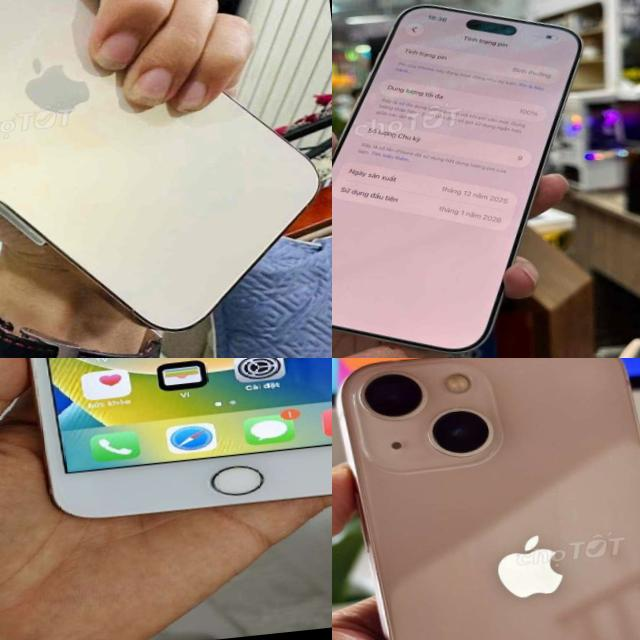gen_12_13: (332, 358, 640, 640)
gen_14: (0, 0, 332, 358)
gen_17: (332, 0, 626, 358)
gen_7_8: (0, 358, 332, 534)
